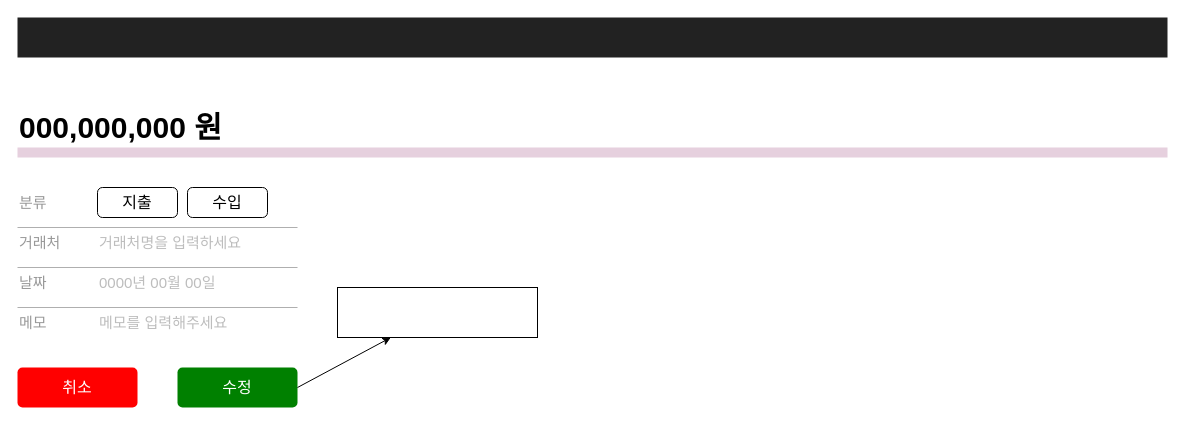
The diagram is 1185 pixels wide and 424 high, and some of its shapes have lost their labels. The shapes that lost their labels are listed below. From the top down, each one's centre as x and y in pixels, then its label:
At [592,37]: "Expense tracker".
At [437,312]: "insert_page에서 버튼만 수정으로 변경 그렇기에 form은 한개만 있으면 될듯".
